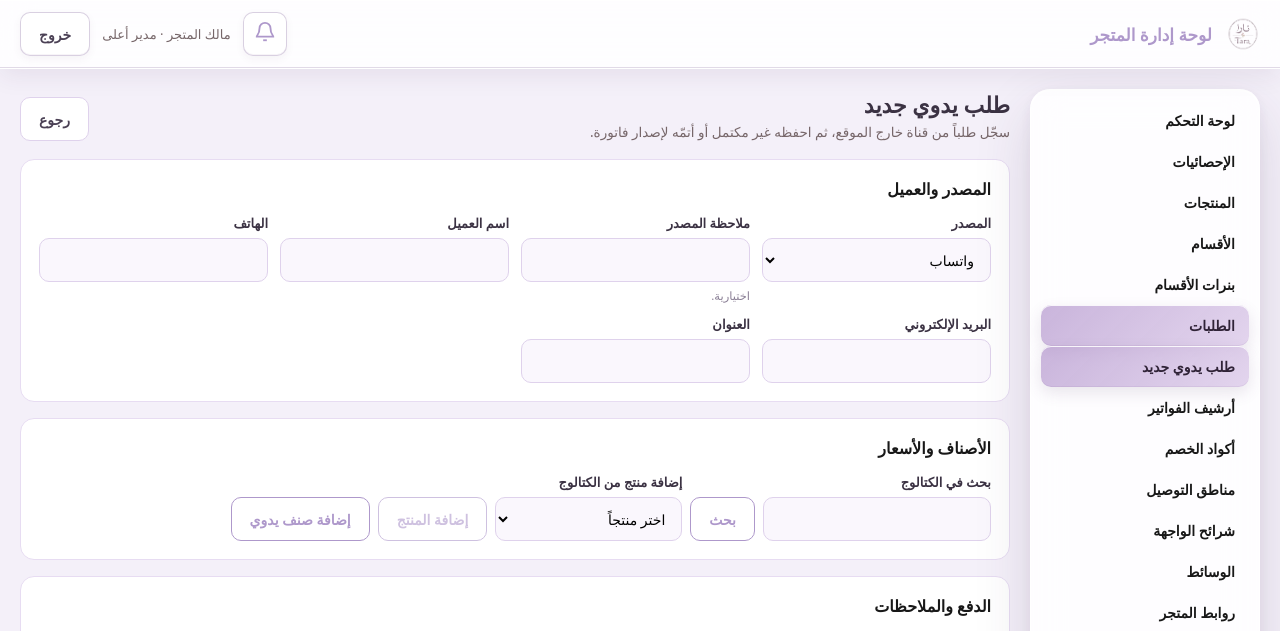
Test: manual order workspace › allows an optional standalone choice to remain empty at the base price
Select "راتنج شفاف · RES-1000" in the dropdown labelled "إضافة منتج من الكتالوج": (589,519) [495,497,682,541]
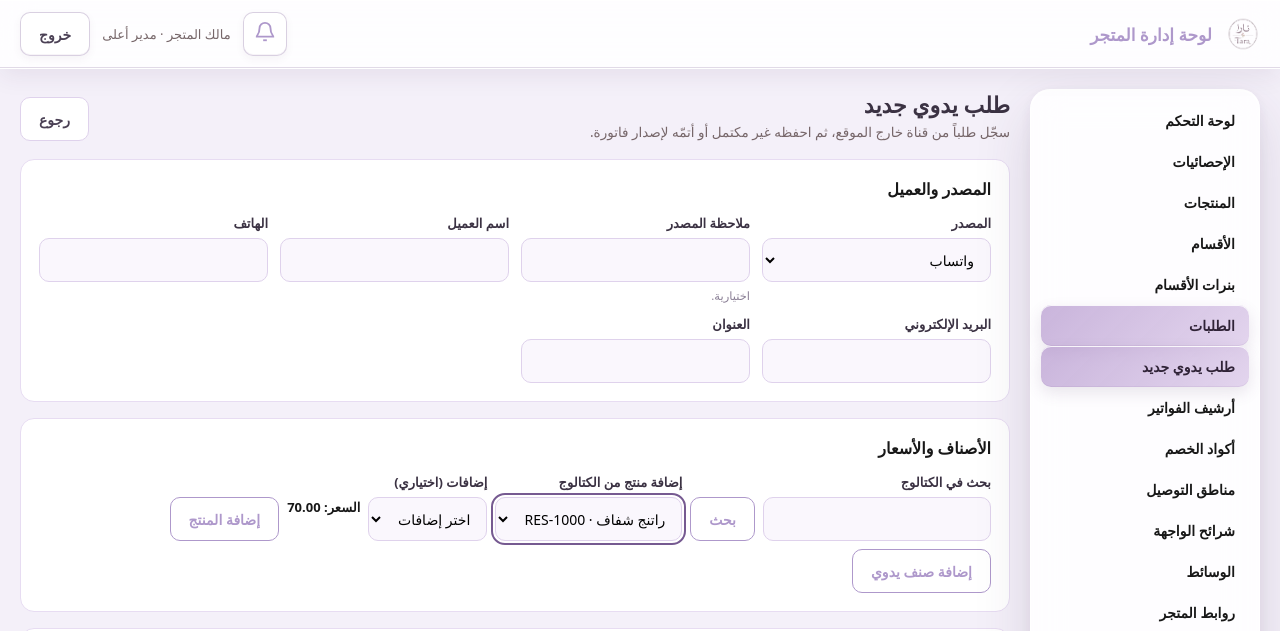
Expected: the text "إضافات (اختياري)" is shown, [368,473,487,541]
Expected: the button "إضافة المنتج" is enabled
Click the button "إضافة المنتج": (224,519) [170,497,279,541]
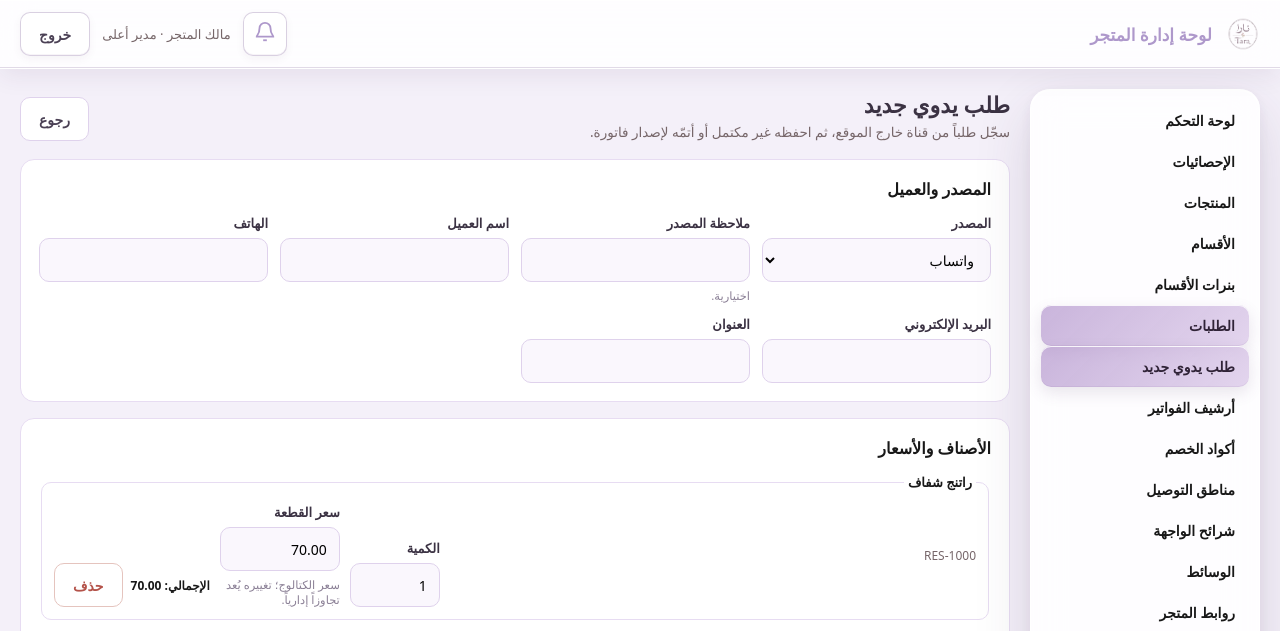
Expected: the field named "سعر الصنف 1" holds "70.00", [220,527,340,571]
